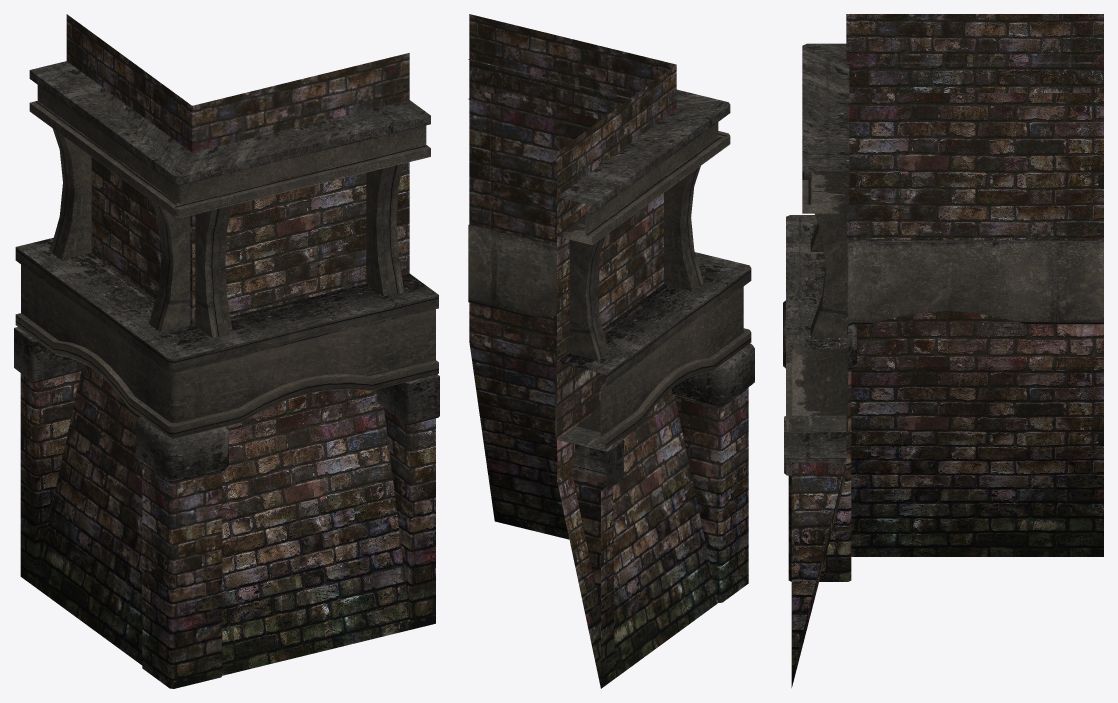
The model's file is sewer_wall_high_convex.DAE.
3 renders of one model, left to right at view 1: azimuth 30°, elevation 25°; view 2: azimuth 150°, elevation 25°; view 3: azimuth 270°, elevation 25°, orthographic. The views are drawn at different scales.
Visible parts, largest first — view 1: sewer_wall_high_convex, sewer_wall_high_support_convex; view 2: sewer_wall_high_convex, sewer_wall_high_support_convex; view 3: sewer_wall_high_convex, sewer_wall_high_support_convex.
Boxes of the visible parts, x1=… form: sewer_wall_high_convex: x1=20, y1=14, x2=435, y2=688; sewer_wall_high_support_convex: x1=14, y1=61, x2=439, y2=483; sewer_wall_high_convex: x1=469, y1=14, x2=748, y2=688; sewer_wall_high_support_convex: x1=468, y1=59, x2=754, y2=491; sewer_wall_high_convex: x1=788, y1=14, x2=1103, y2=687; sewer_wall_high_support_convex: x1=783, y1=43, x2=1103, y2=475.
Size of the model in its own units: 2.06 by 2.06 by 4.
